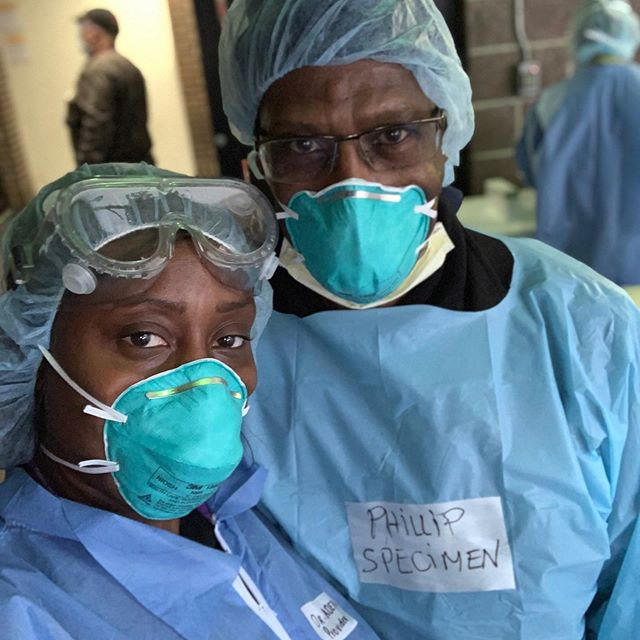n95: (82, 351, 263, 520), (266, 175, 459, 306)
